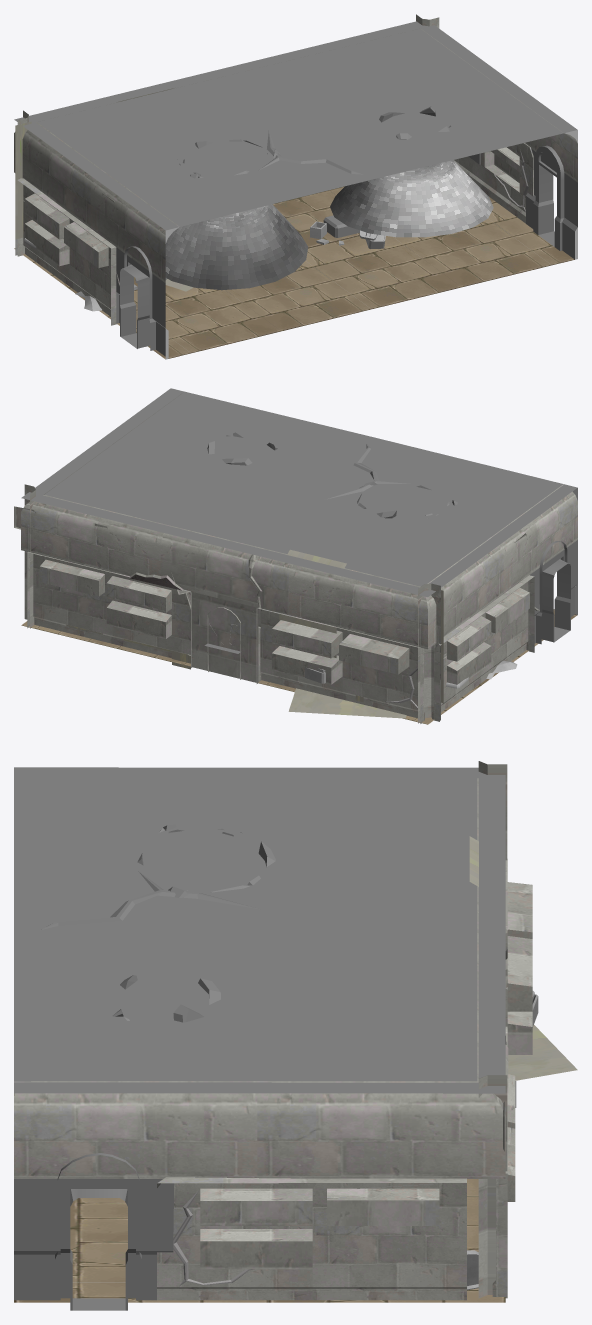
The model's file is MSH_QuestMausoleum_L1_R2_optimized.fbx.
The picture shows the model from 3 angles, top to bottom: view 1: azimuth 30°, elevation 25°; view 2: azimuth 150°, elevation 25°; view 3: azimuth 270°, elevation 25°; orthographic projection. The views are drawn at different scales.
Visible parts, largest first — view 1: lightmap4, lightmap7, lightmap0, lightmap9, VFX_LightShaft_00 (2), VFX_LightShaft_00 (3), lightmap3, MSH_QuestMausoleum_L1_R2_Decals_01; view 2: lightmap4, lightmap0, lightmap9, lightmap3, MSH_QuestMausoleum_L1_R2_Decals_01, lightmap7; view 3: lightmap4, lightmap0, lightmap9, lightmap7, lightmap3, MSH_QuestMausoleum_L1_R2_Decals_01.
Part boxes in pixels (x1,y1,x2,y2): lightmap4: (14, 21, 577, 230); lightmap7: (14, 186, 574, 359); lightmap0: (14, 29, 577, 356); lightmap9: (15, 143, 533, 325); VFX_LightShaft_00 (2): (165, 204, 308, 290); VFX_LightShaft_00 (3): (330, 160, 493, 237); lightmap3: (17, 14, 564, 350); MSH_QuestMausoleum_L1_R2_Decals_01: (15, 88, 193, 291); lightmap4: (21, 388, 577, 597); lightmap0: (21, 392, 577, 682); lightmap9: (27, 552, 534, 723); lightmap3: (14, 484, 570, 723); MSH_QuestMausoleum_L1_R2_Decals_01: (66, 549, 443, 718); lightmap7: (21, 609, 577, 724); lightmap4: (14, 767, 505, 1093); lightmap0: (14, 778, 516, 1300); lightmap9: (157, 859, 532, 1300); lightmap7: (14, 1093, 505, 1302); lightmap3: (55, 761, 538, 1310); MSH_QuestMausoleum_L1_R2_Decals_01: (469, 836, 577, 1080).
Bounding box in the file's own units: 20.62 × 6.5 × 14.33.
Materials: 6 (5 with a texture image).
